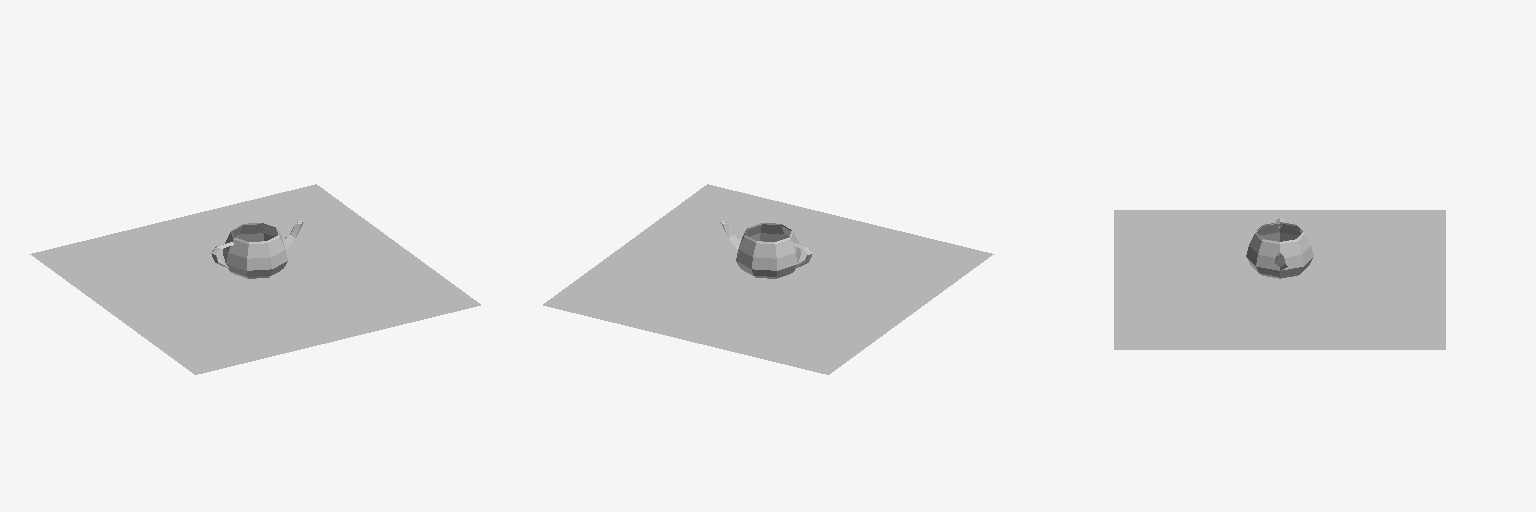
File: teapot_bez_plane.obj
The picture shows the model from 3 angles: view 1: azimuth 30°, elevation 25°; view 2: azimuth 150°, elevation 25°; view 3: azimuth 270°, elevation 25°; orthographic projection.
Parts seen in each view (by area): view 1: Plane_Plane.001, Teapot001; view 2: Plane_Plane.001, Teapot001; view 3: Plane_Plane.001, Teapot001.
Part boxes in pixels (x1,y1,x2,y2): Plane_Plane.001: (30, 184, 480, 374); Teapot001: (211, 221, 303, 278); Plane_Plane.001: (543, 184, 993, 374); Teapot001: (720, 221, 812, 278); Plane_Plane.001: (1114, 210, 1445, 349); Teapot001: (1246, 218, 1313, 278).
Bounding box in the file's own units: 200 × 31.59 × 200.